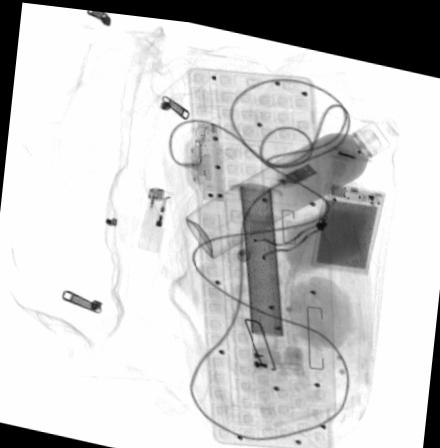Lighter: (138, 183, 170, 249)
Powerbank: (310, 170, 385, 265)
Sprayer: (185, 111, 390, 253)
